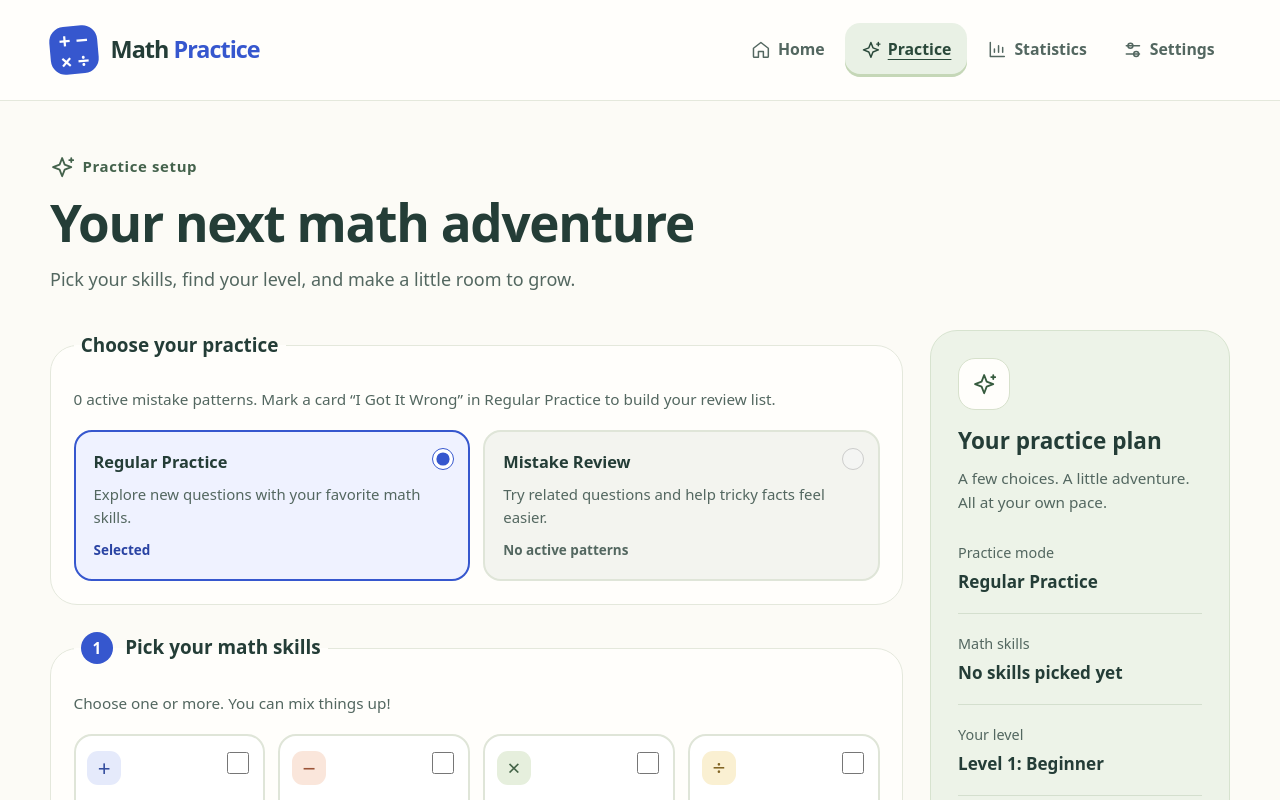
Scenario: exhausted primary/fallback failures show retry and home, then recover the same session
Click the checkbox labelled "Addition": (238, 763) 227,752 -> 249,774
(page scrolled)
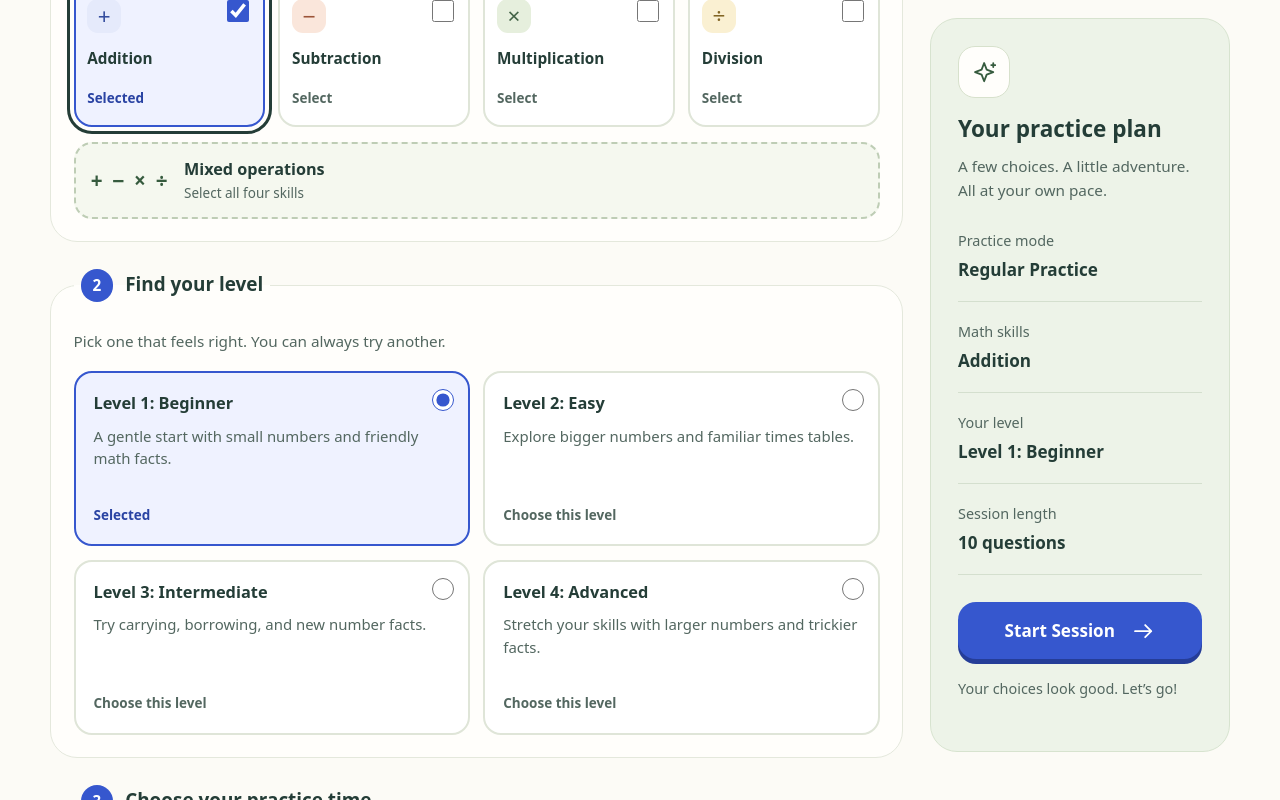
Click the radio button labelled "Level 1: Beginner": (443, 400) 432,389 -> 454,411
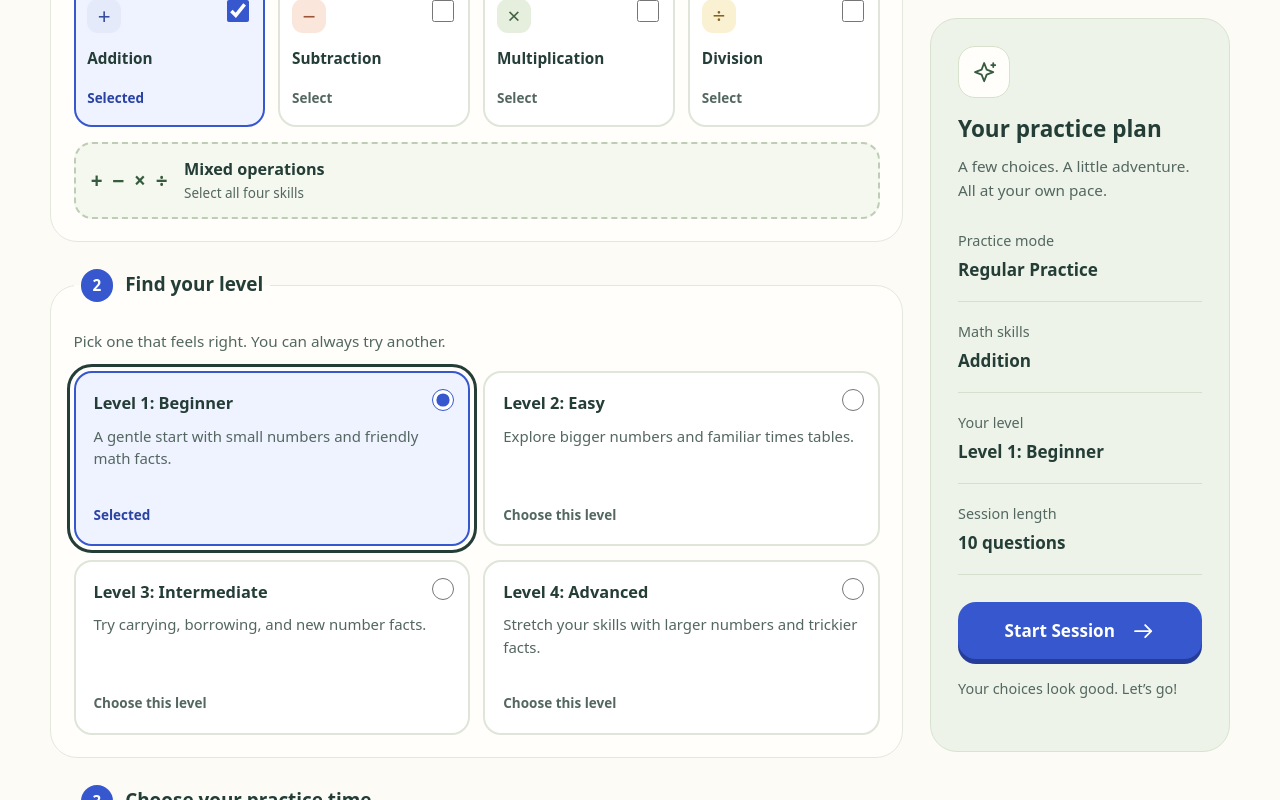
Click the button "Start Session": (1080, 631) 958,602 -> 1202,660
(page scrolled)
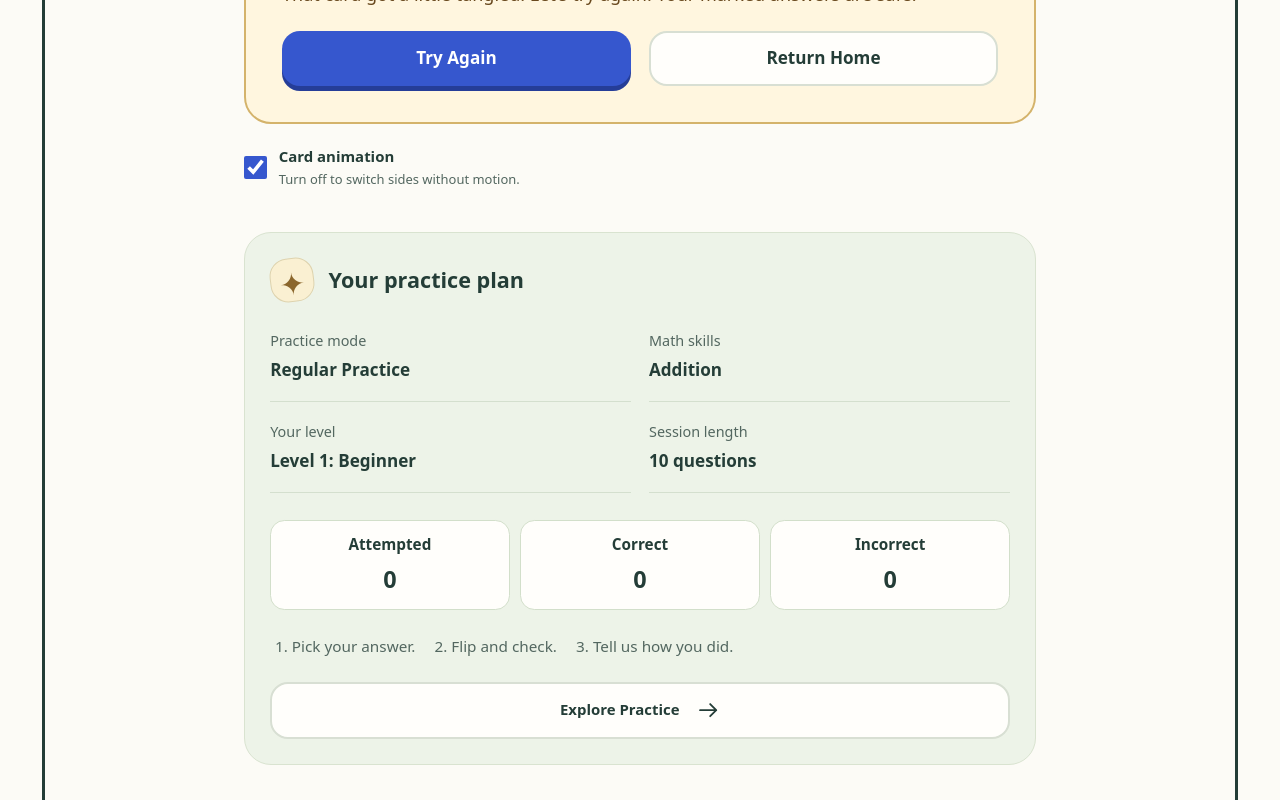
Click the button "Try Again": (456, 58) 282,31 -> 631,86
(page scrolled)
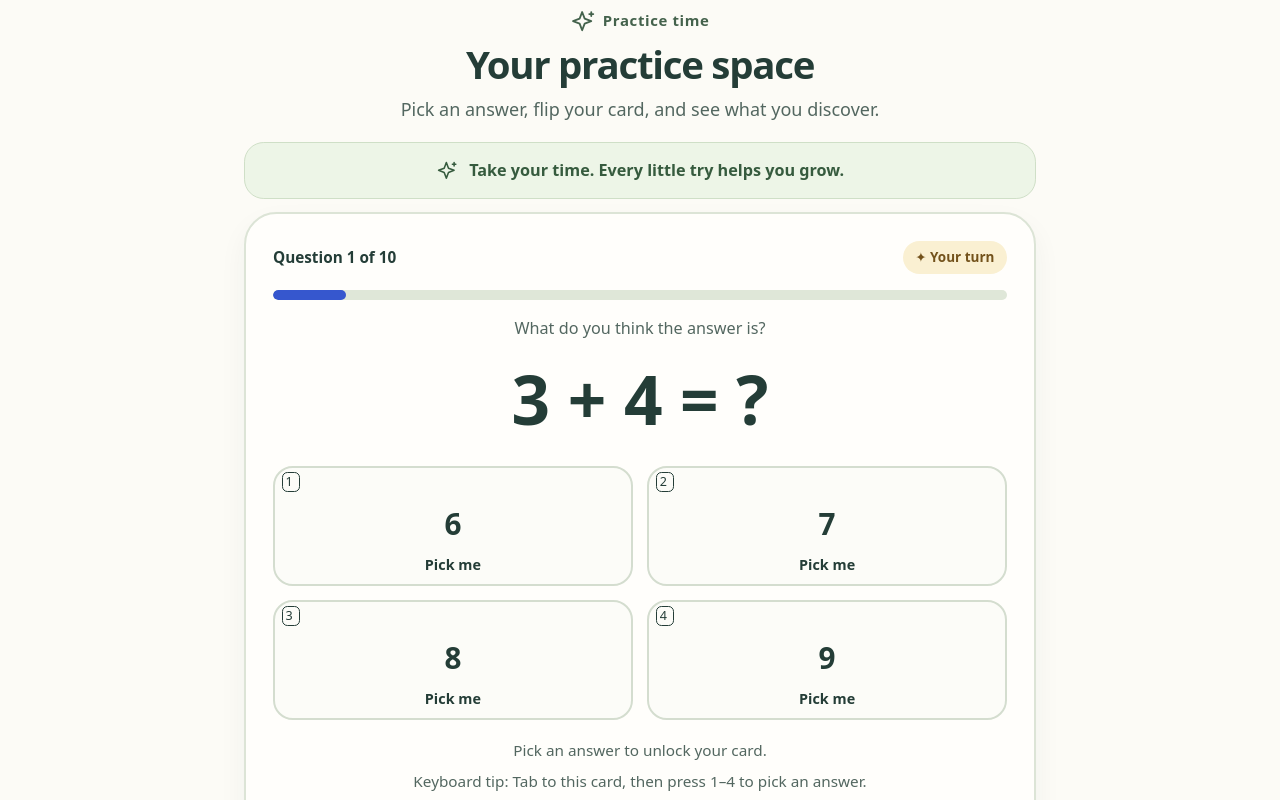
Now the heading "3 + 4 = ?" is shown, box 512,353 -> 768,445
